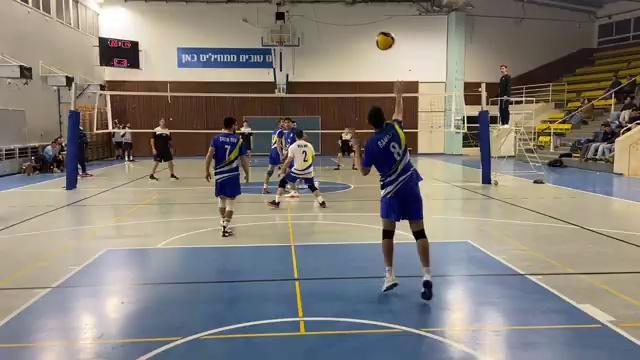ball: (372, 28, 399, 53)
